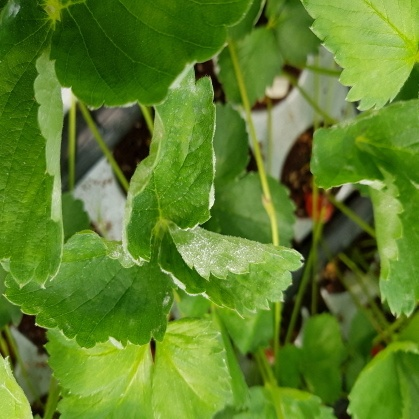Powdery_Leaf: (0, 154, 372, 320), (0, 100, 372, 261), (120, 68, 417, 240), (129, 155, 297, 353), (113, 98, 261, 230)
